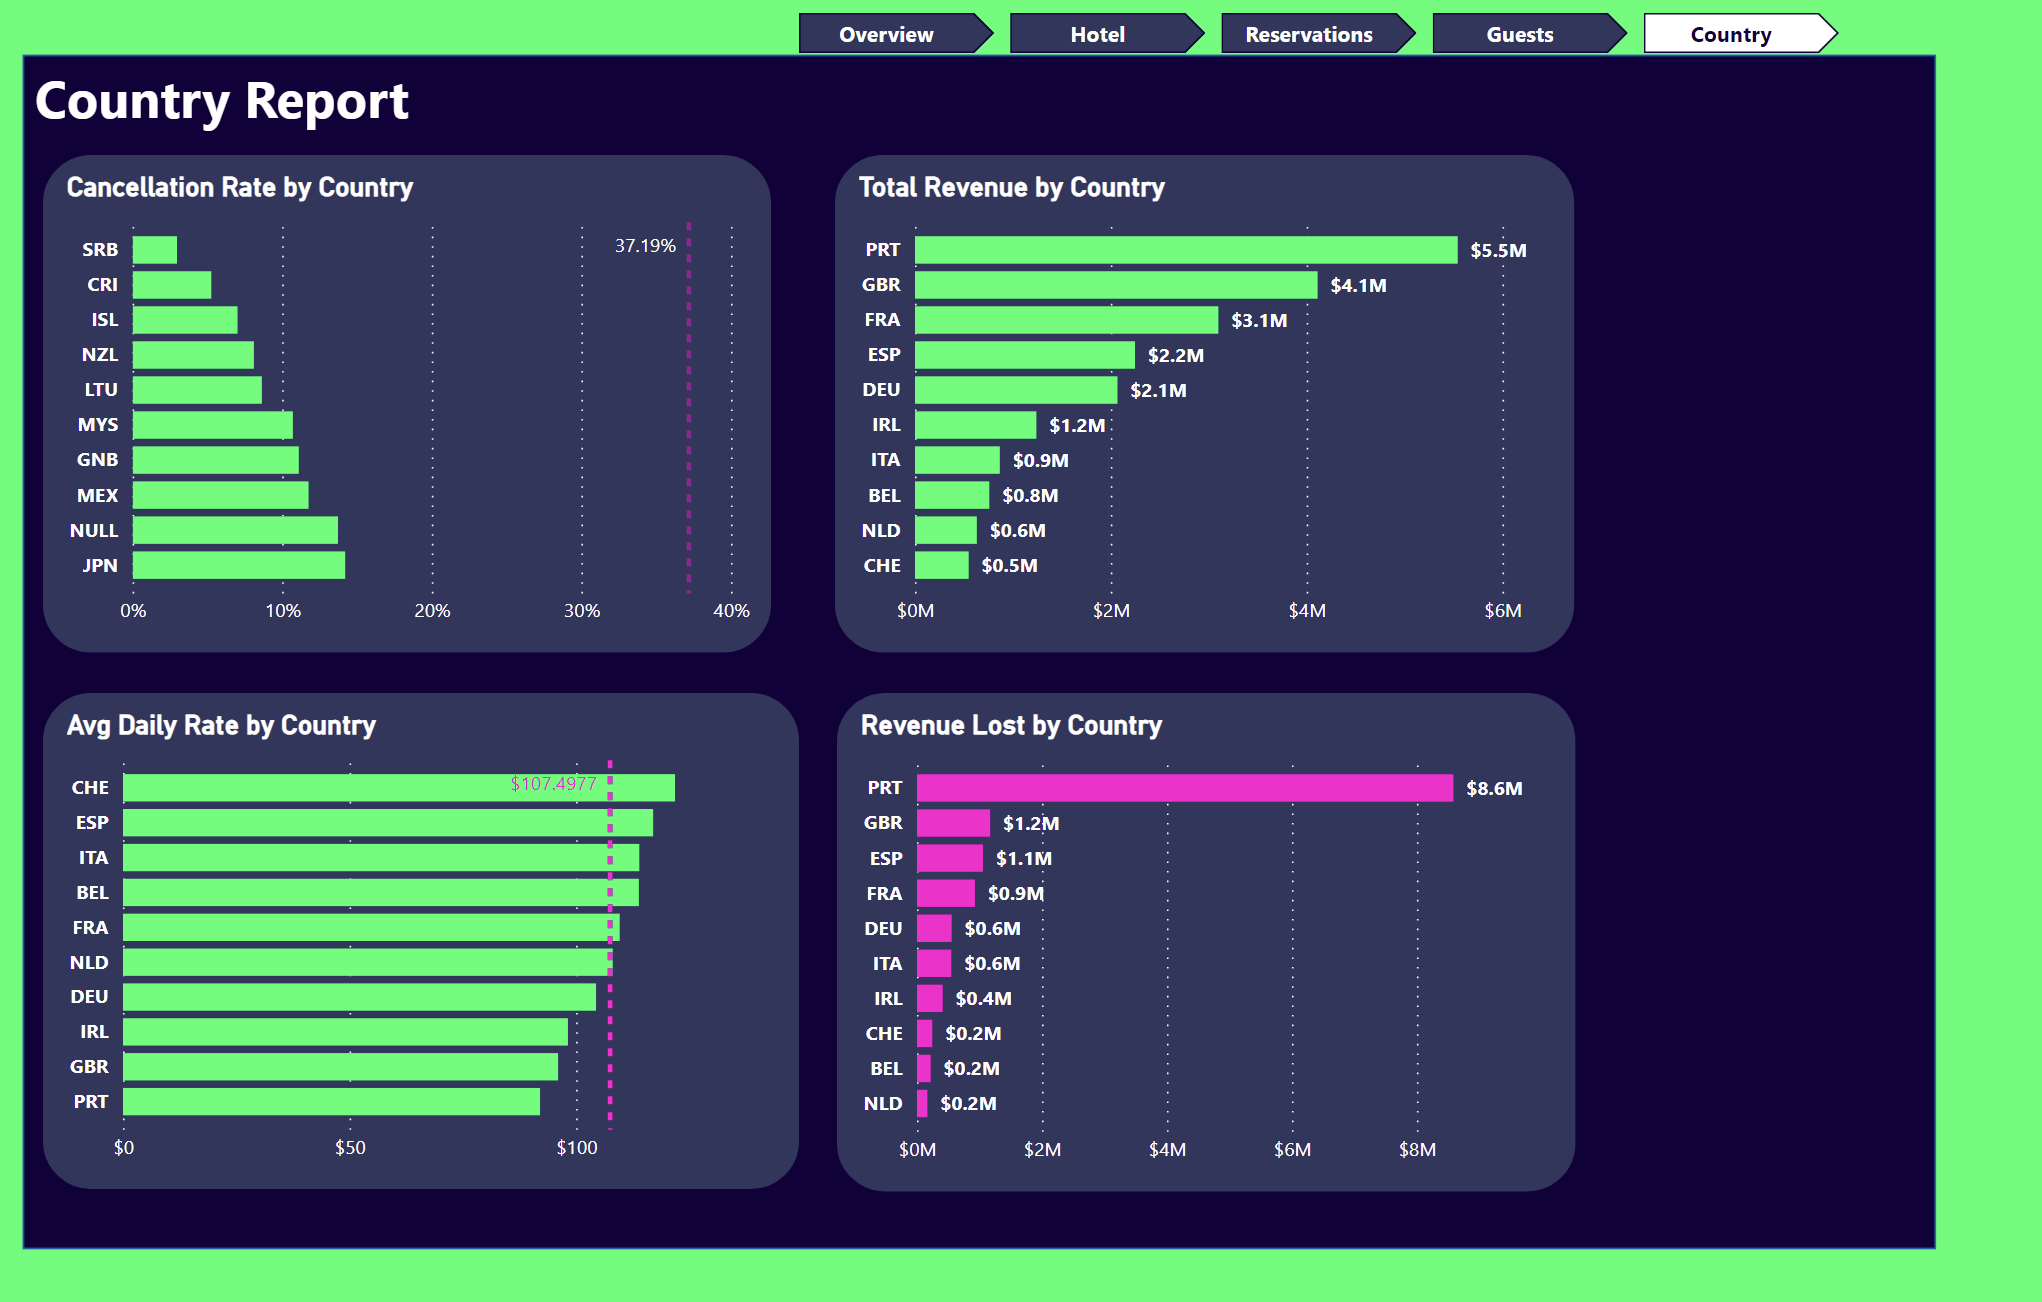

This screenshot's page, from the dashboard's own definition file:
{"tool":"powerbi","page":{"name":"Country","canvas":[1280,820],"ordinal":4},"visuals":[{"type":"clusteredBarChart","fields":{"Y":["Measure.cancellation rate"],"Category":["hotel_bookings.Country"]},"box":[27,99,455,311],"z":0},{"type":"clusteredBarChart","fields":{"Category":["hotel_bookings.Country"],"Y":["Measure.Total Revenue"]},"box":[522,99,462,311],"z":1000},{"type":"pageNavigator","box":[500,10,650,25],"z":2000},{"type":"textbox","box":[17.3,36,260,53.3],"z":3000},{"type":"clusteredBarChart","fields":{"Category":["hotel_bookings.Country"],"Y":["All Measures.avg rate"]},"box":[27.5,435,472.5,310],"z":4000},{"type":"clusteredBarChart","fields":{"Category":["hotel_bookings.Country"],"Y":["All Measures.Revenue Lost"]},"box":[523.8,435,461.2,311.2],"z":5000}]}

Visuals, with their boxes in screenshot pixels (x1, y1, x2, y2), scaled from the page's 1280x820 canvas onto the 2042x1302 screenshot:
clusteredBarChart - Measure.cancellation rate x hotel_bookings.Country: box=[43, 157, 769, 651]
clusteredBarChart - hotel_bookings.Country x Measure.Total Revenue: box=[833, 157, 1570, 651]
pageNavigator: box=[798, 16, 1835, 56]
textbox: box=[28, 57, 442, 142]
clusteredBarChart - hotel_bookings.Country x All Measures.avg rate: box=[44, 691, 798, 1183]
clusteredBarChart - hotel_bookings.Country x All Measures.Revenue Lost: box=[836, 691, 1571, 1185]
